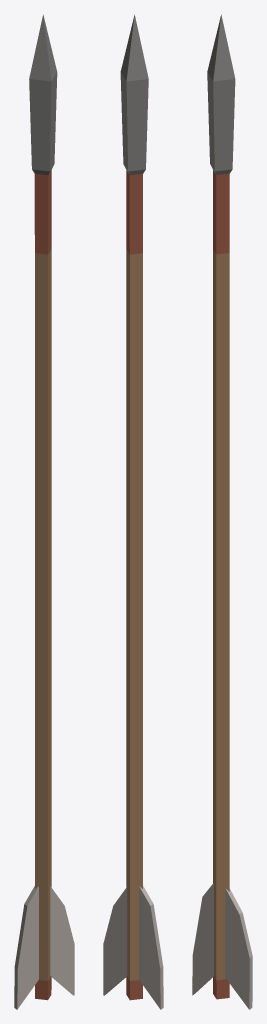
The model's file is SM_pwe_rome_arrow_02.fbx.
3 renders of one model, left to right at view 1: azimuth 30°, elevation 25°; view 2: azimuth 150°, elevation 25°; view 3: azimuth 330°, elevation 25°, orthographic.
Parts seen in each view (by area): view 1: SM_pwe_rome_arrow_02; view 2: SM_pwe_rome_arrow_02; view 3: SM_pwe_rome_arrow_02.
Part boxes in pixels (box(x1,y1,x2,y2)): SM_pwe_rome_arrow_02: box(14, 14, 74, 1009); SM_pwe_rome_arrow_02: box(103, 14, 163, 1009); SM_pwe_rome_arrow_02: box(192, 14, 252, 1009).
Bounding box in the file's own units: 3.5 × 57.46 × 1.72.
